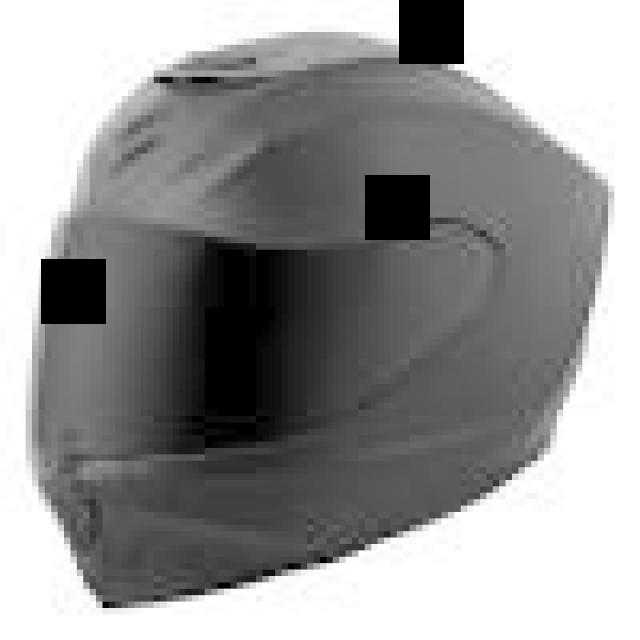Helmet: (35, 34, 605, 603)
